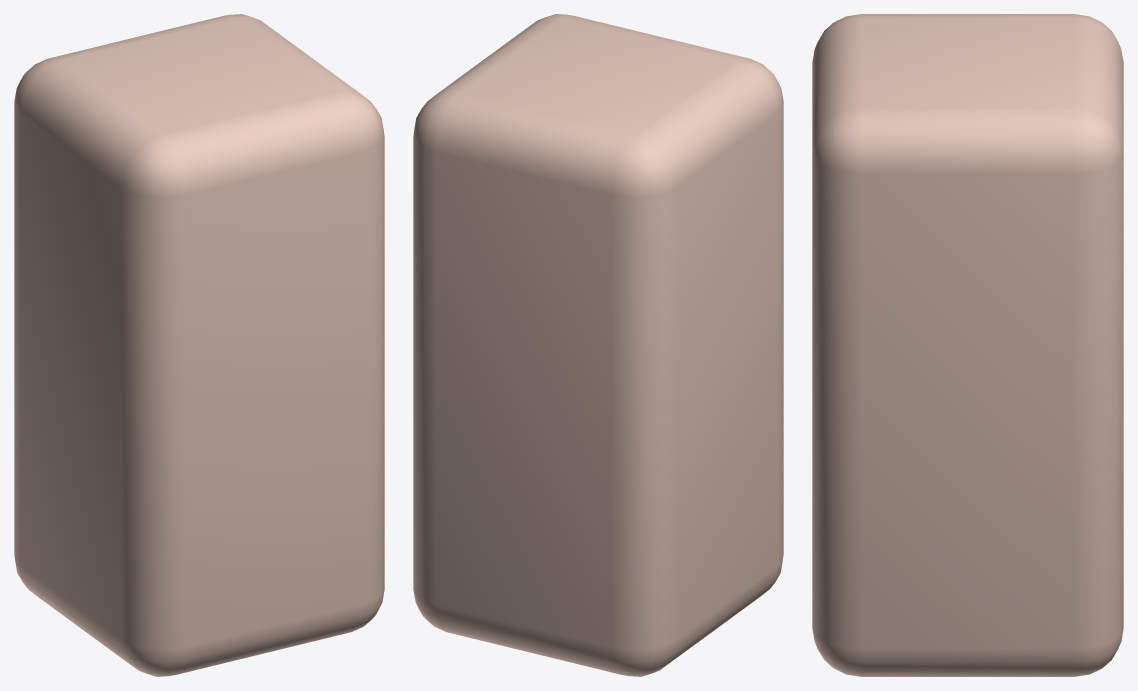
File: cuboid.fbx
3 views of the same model, side by side, from view 1: azimuth 30°, elevation 25°; view 2: azimuth 150°, elevation 25°; view 3: azimuth 270°, elevation 25° (orthographic). The views are drawn at different scales.
Parts seen in each view (by area): view 1: Cube.003; view 2: Cube.003; view 3: Cube.003.
Part boxes in pixels (x1=…): Cube.003: x1=14, y1=14, x2=384, y2=676; Cube.003: x1=413, y1=14, x2=783, y2=676; Cube.003: x1=812, y1=14, x2=1123, y2=676.
Size of the model in its own units: 200 by 400 by 200.
